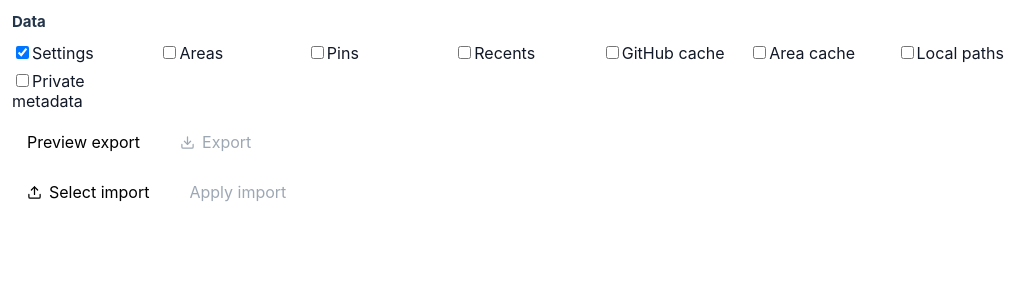
DataSyncPanel › previews and exports through the Control API
Expected: the button "Export" is disabled, [165,123,266,161]
Step 1. Click the button "Preview export" → (84, 142), box [12,123,155,161]
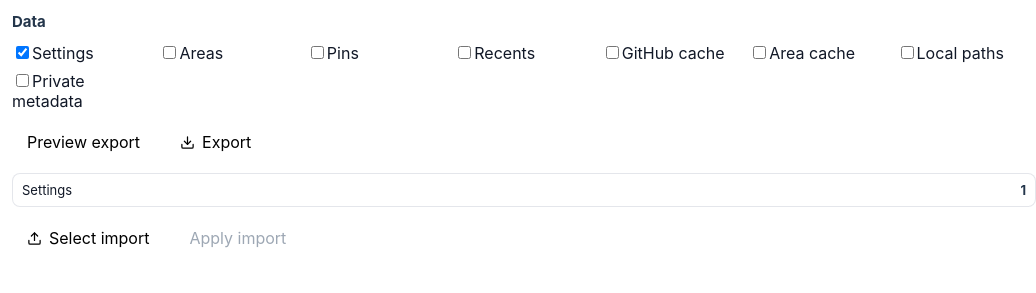
Result: the element named "Export preview" is shown at [12,173,1035,207]
Result: the text "Settings" is shown at [22,182,72,198]
Step 2. Click the button "Export" → (216, 142), box [165,123,266,161]
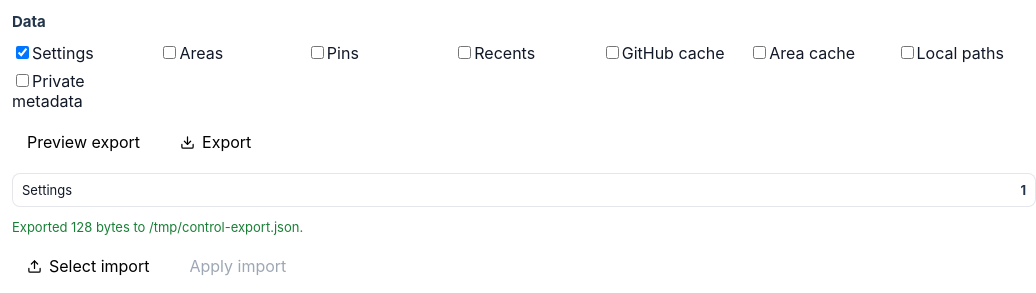
Result: the text "Exported 128 bytes to /tmp/control-export.json." is shown at [12,219,303,235]
